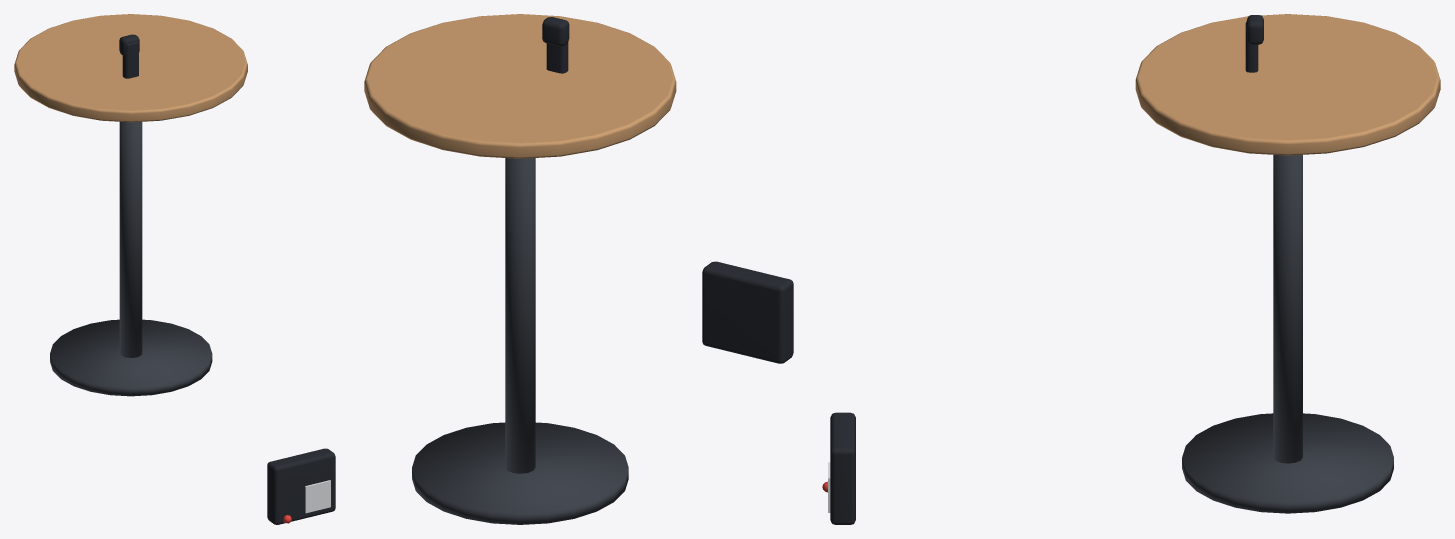
Rendered from PhoneTable.fbx.
3 renders of one model, left to right at view 1: azimuth 30°, elevation 25°; view 2: azimuth 150°, elevation 25°; view 3: azimuth 270°, elevation 25°, orthographic. The views are drawn at different scales.
Visible parts, largest first — view 1: Top.004, Base.005, Pole, PhoneBase, Keypad, HandsetGrip; view 2: Top.004, Base.005, Pole, PhoneBase, Ear, HandsetGrip; view 3: Top.004, Base.005, Pole, PhoneBase.
Boxes of the visible parts, x1,y1,x2,y2 form: Top.004: (14,14,247,122); Base.005: (50,319,212,396); Pole: (119,121,142,357); PhoneBase: (267,448,335,524); Keypad: (305,480,330,513); HandsetGrip: (122,42,138,78); Top.004: (364,14,676,158); Base.005: (412,422,628,524); Pole: (505,158,535,473); PhoneBase: (702,261,793,363); Ear: (542,17,569,46); HandsetGrip: (546,42,568,73); Top.004: (1135,14,1440,155); Base.005: (1182,413,1393,513); Pole: (1273,155,1302,463); PhoneBase: (830,412,855,524).
Bounding box in the file's own units: 0.72 × 1.25 × 1.46.
